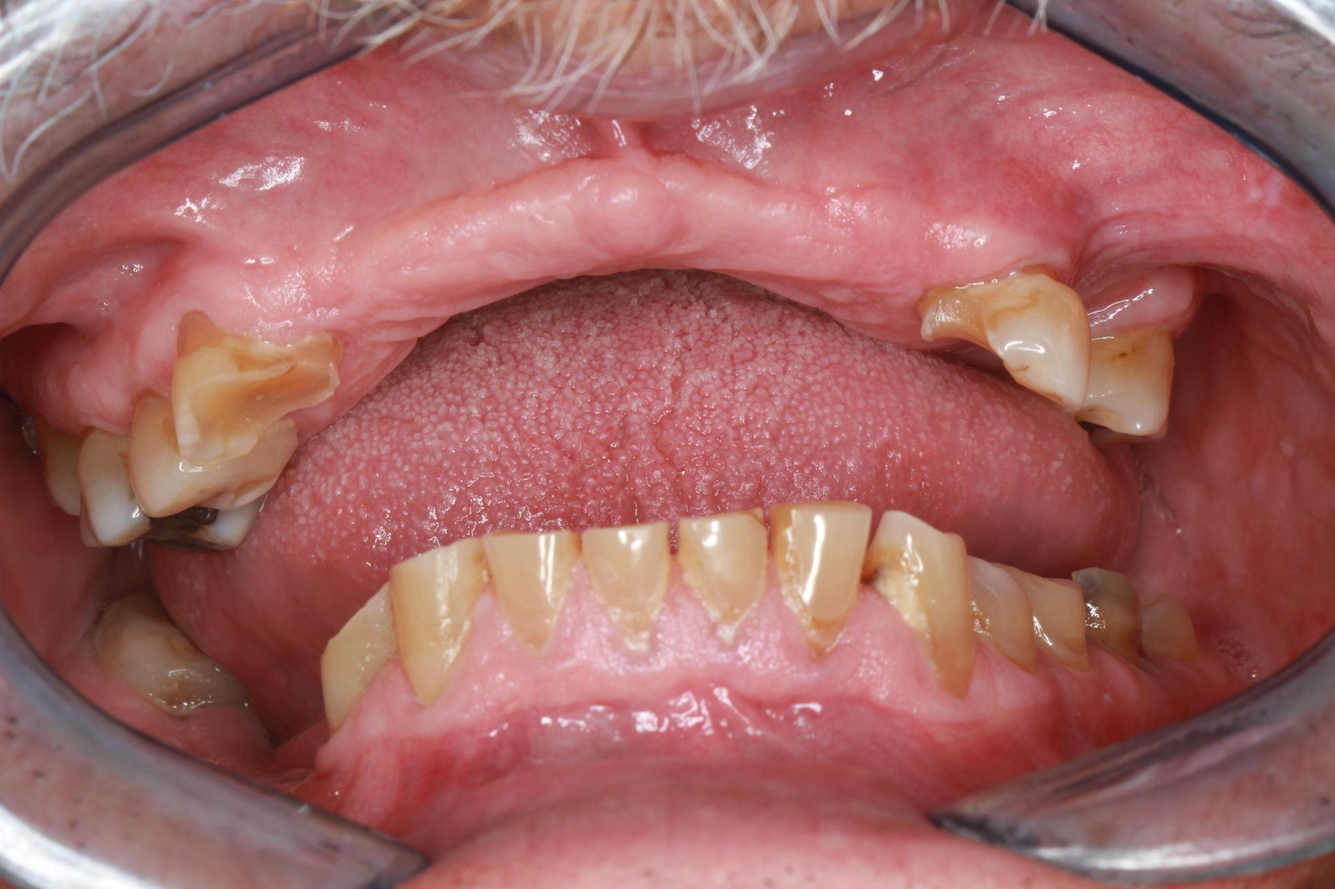Fractured Teeth: (907, 235, 1090, 432), (161, 302, 344, 461), (313, 562, 404, 732)
